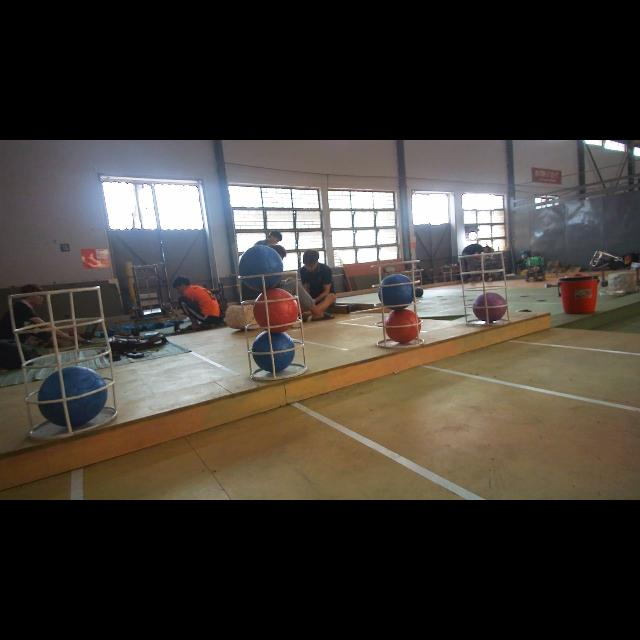B: (237, 244, 281, 290), (252, 330, 288, 376), (377, 272, 411, 310)
R: (254, 290, 300, 330), (388, 309, 420, 343)
